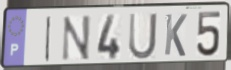4: (96, 12, 123, 62)
5: (196, 10, 223, 58)
I: (43, 14, 53, 64)
K: (163, 13, 189, 59)
N: (60, 14, 92, 63)
U: (128, 12, 159, 62)
